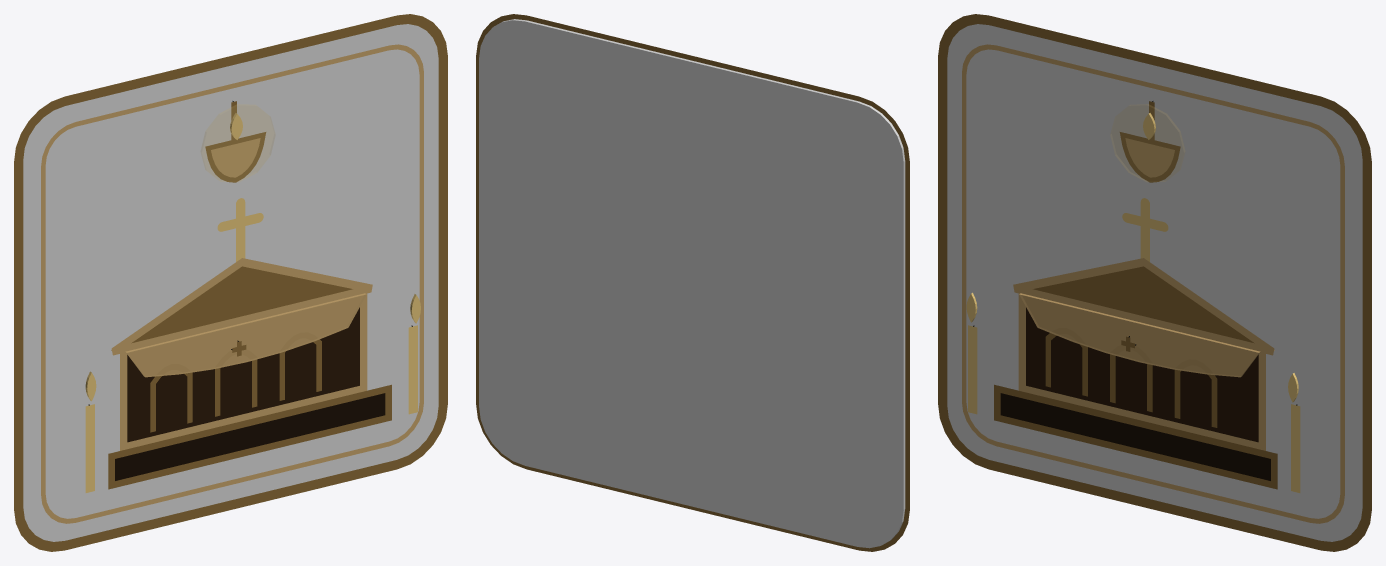
The model's file is obj-raka-matfeya.glb.
The picture shows the model from 3 angles, left to right: view 1: azimuth 30°, elevation 25°; view 2: azimuth 150°, elevation 25°; view 3: azimuth 330°, elevation 25°; orthographic projection.
Parts seen in each view (by area): view 1: obj-raka-matfeya; view 2: obj-raka-matfeya; view 3: obj-raka-matfeya.
Part boxes in pixels (x1=…): obj-raka-matfeya: x1=14, y1=14, x2=447, y2=551; obj-raka-matfeya: x1=476, y1=14, x2=909, y2=551; obj-raka-matfeya: x1=938, y1=14, x2=1371, y2=551.
Bounding box in the file's own units: 0.3917 × 0.3917 × 0.04.
